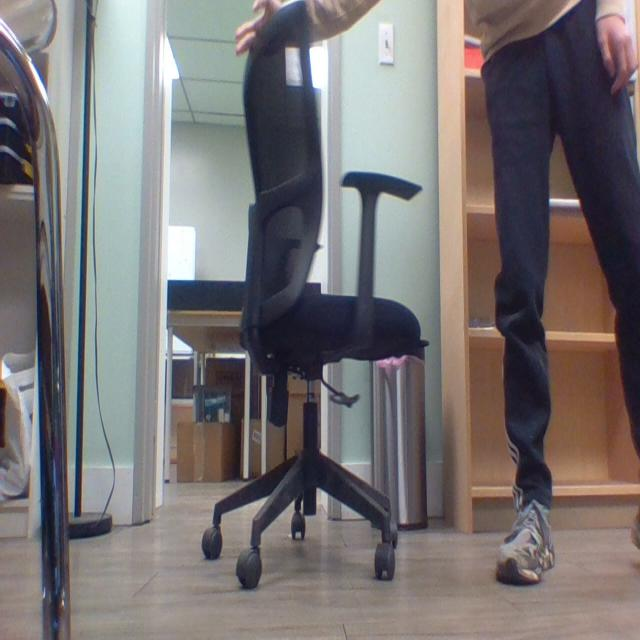black-chair: (229, 2, 404, 586)
